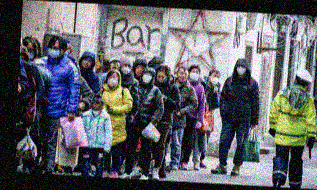with_mask: (47, 41, 63, 57), (106, 73, 119, 88), (25, 44, 36, 60), (140, 71, 154, 83), (208, 72, 220, 84), (235, 63, 247, 75), (189, 68, 200, 81), (91, 105, 102, 117), (121, 62, 132, 74), (156, 72, 167, 83)
without_mask: (81, 54, 94, 68), (134, 64, 146, 76), (177, 69, 187, 82), (111, 61, 120, 70)
